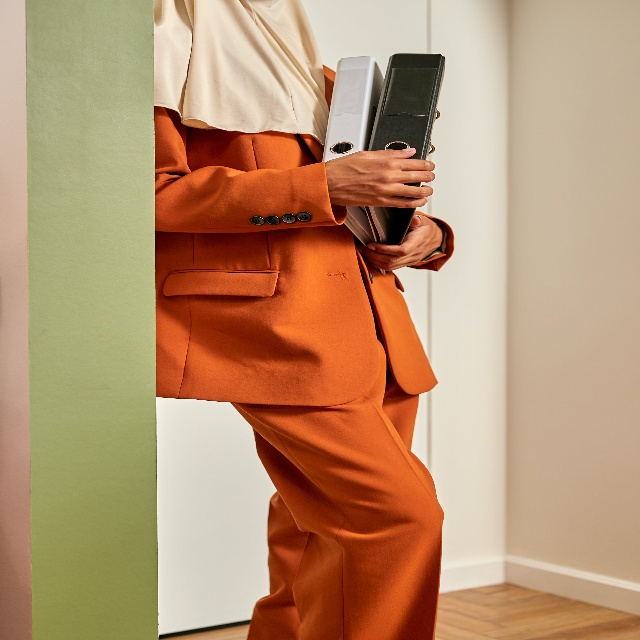Sin_guantes: (324, 144, 434, 213), (356, 206, 443, 274)
